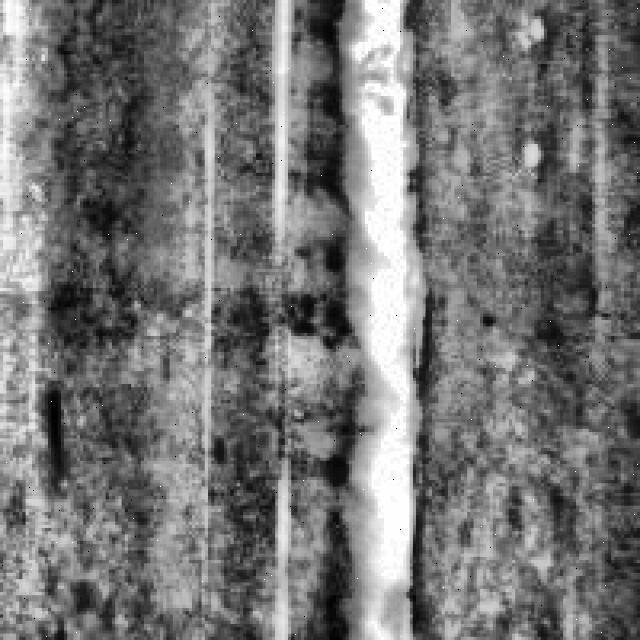Inclusion: (323, 0, 426, 634), (259, 0, 298, 237), (259, 445, 298, 637)
Patches: (32, 374, 67, 474)
